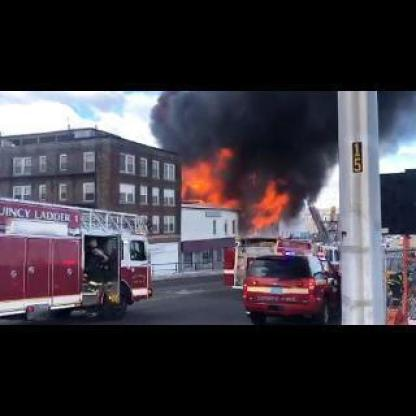fire: (177, 147, 243, 207), (247, 177, 289, 230)
